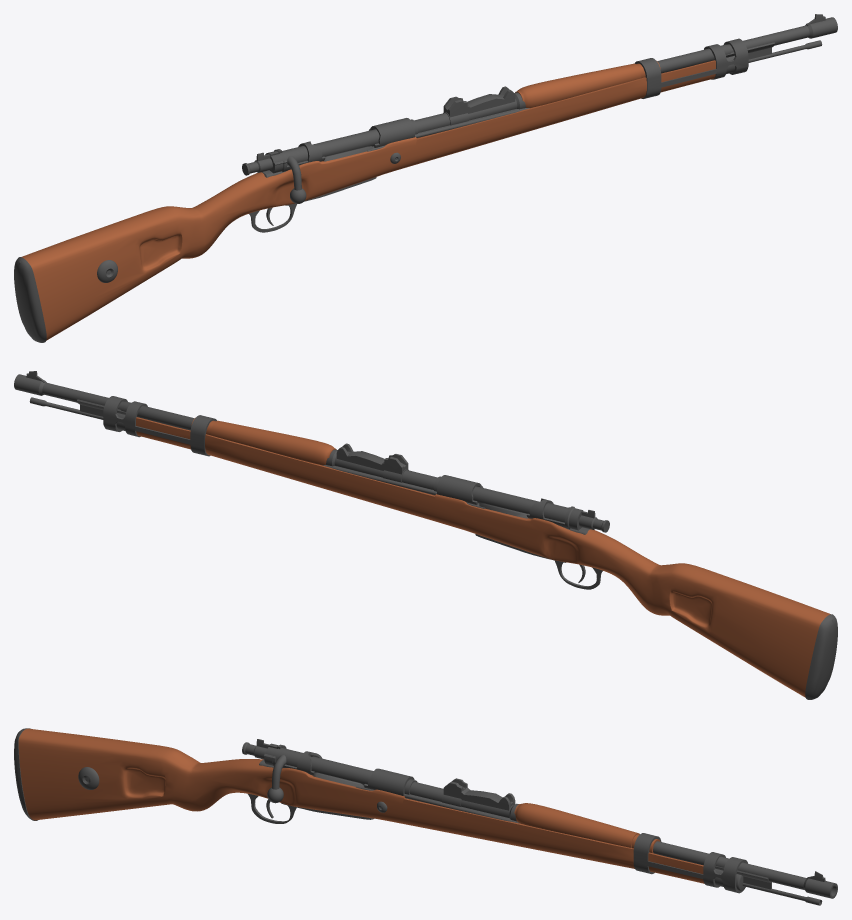
File: gun2.glb
The picture shows the model from 3 angles, top to bottom: view 1: azimuth 30°, elevation 25°; view 2: azimuth 150°, elevation 25°; view 3: azimuth 330°, elevation 25°; orthographic projection.
Visible parts, largest first — view 1: Circle.001_1, Circle.001_0; view 2: Circle.001_1, Circle.001_0; view 3: Circle.001_1, Circle.001_0.
Boxes of the visible parts, x1,y1,x2,y2 form: Circle.001_1: [21, 60, 715, 340]; Circle.001_0: [14, 14, 837, 342]; Circle.001_1: [136, 417, 830, 697]; Circle.001_0: [14, 371, 837, 699]; Circle.001_1: [18, 728, 704, 883]; Circle.001_0: [14, 728, 837, 905].
Bounding box in the file's own units: 37.29 × 6.13 × 2.03.
